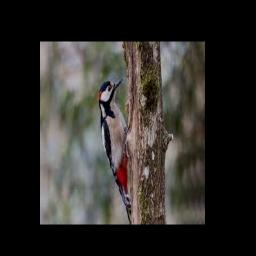Woodpecker: (99, 77, 132, 225)
